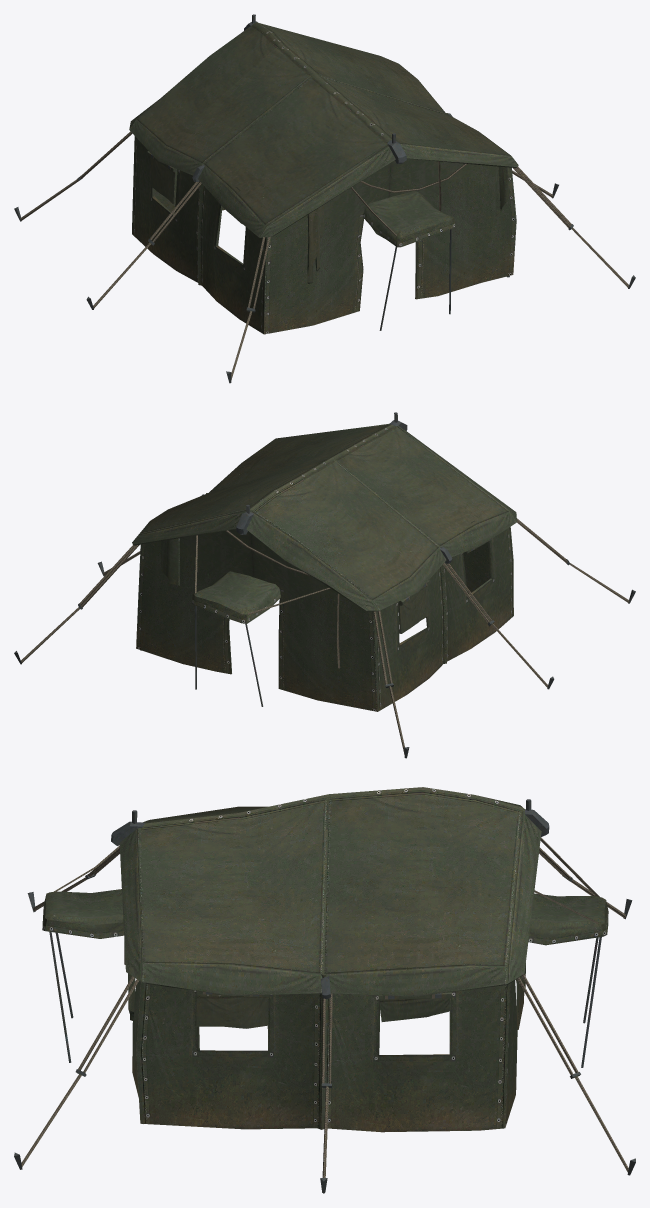
The model's file is Tent_Small.obj.
The picture shows the model from 3 angles, top to bottom: view 1: azimuth 30°, elevation 25°; view 2: azimuth 150°, elevation 25°; view 3: azimuth 270°, elevation 25°; orthographic projection. The views are drawn at different scales.
Parts seen in each view (by area): view 1: Tent_Small; view 2: Tent_Small; view 3: Tent_Small.
Boxes of the visible parts, box(x1,y1,x2,y2) form: Tent_Small: box(14, 14, 635, 383); Tent_Small: box(14, 412, 635, 758); Tent_Small: box(14, 787, 635, 1193).
Bounding box in the file's own units: 54.98 × 21.06 × 46.6.
